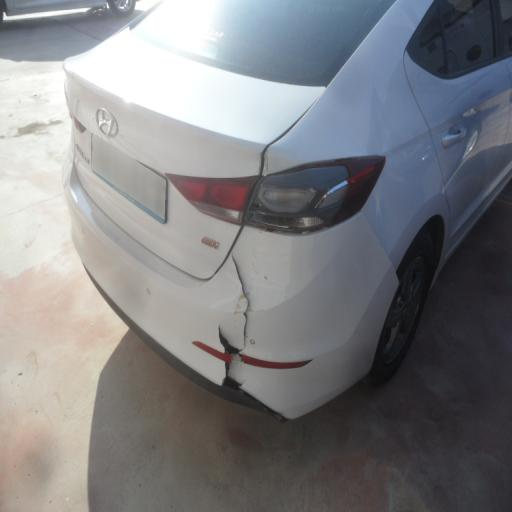broken: (185, 222, 311, 414)
